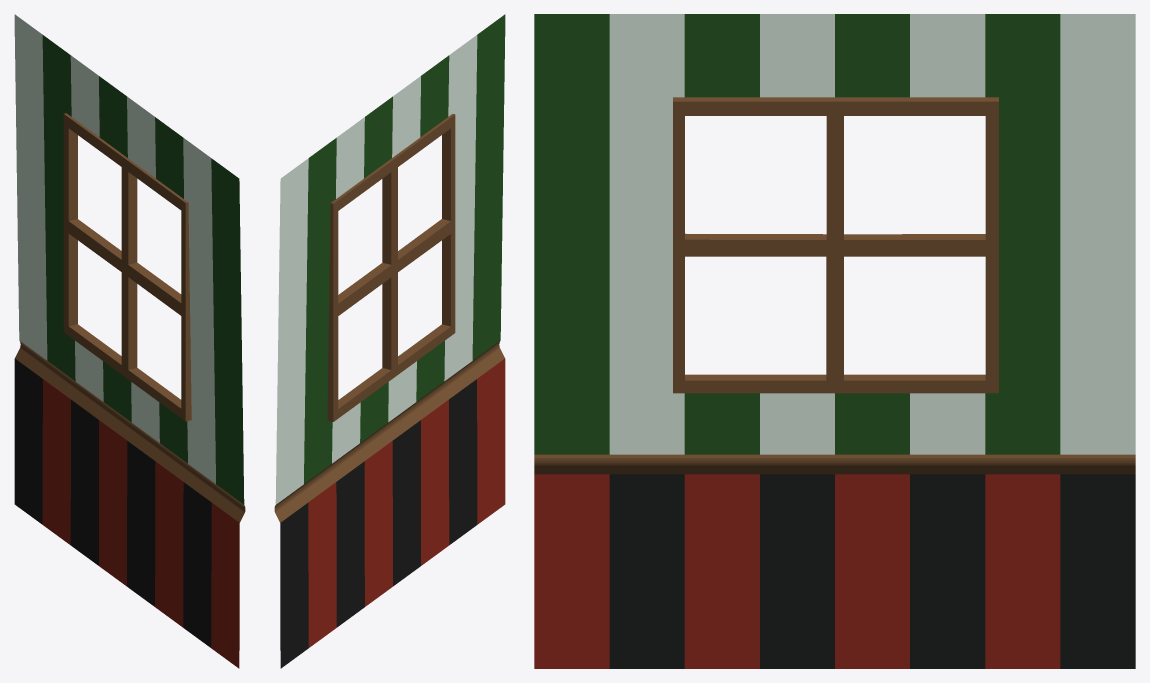
Rendered from wallWindowTile.glb.
3 renders of one model, left to right at view 1: azimuth 30°, elevation 25°; view 2: azimuth 150°, elevation 25°; view 3: azimuth 270°, elevation 25°, orthographic. The views are drawn at different scales.
Parts seen in each view (by area): view 1: wallWindow; view 2: wallWindow; view 3: wallWindow.
Part boxes in pixels (left/top/right/bottom): wallWindow: left=14, top=14, right=245, bottom=668; wallWindow: left=274, top=14, right=505, bottom=668; wallWindow: left=534, top=14, right=1135, bottom=668.
Size of the model in its own units: 0.0924 by 4.75 by 3.95.
